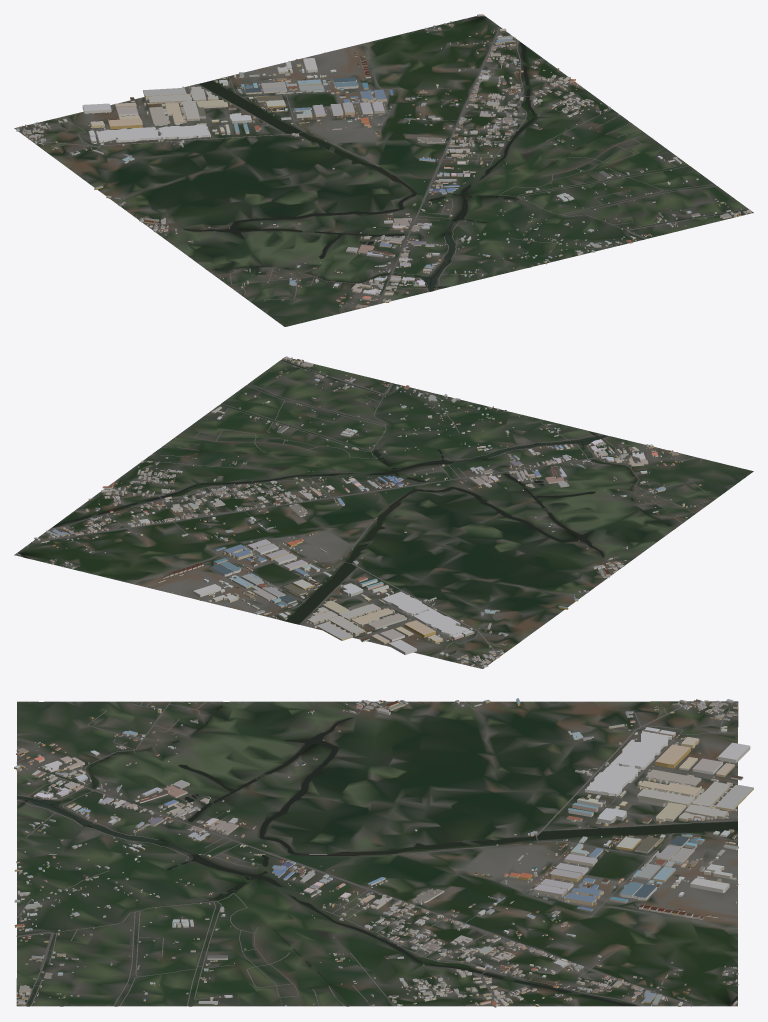
The picture shows the model from 3 angles, top to bottom: view 1: azimuth 30°, elevation 25°; view 2: azimuth 150°, elevation 25°; view 3: azimuth 270°, elevation 25°; orthographic projection. The views are drawn at different scales.
Parts seen in each view (by area): view 1: ground, buildings, roads, water; view 2: ground, buildings, roads, water; view 3: ground, buildings, water, roads.
Part boxes in pixels (bbox=[...]): ground: bbox=[14, 15, 753, 326]; buildings: bbox=[16, 14, 751, 308]; roads: bbox=[20, 27, 748, 304]; water: bbox=[74, 16, 611, 320]; ground: bbox=[14, 359, 753, 668]; buildings: bbox=[16, 356, 701, 667]; roads: bbox=[31, 359, 710, 668]; water: bbox=[17, 370, 744, 653]; ground: bbox=[16, 701, 738, 1006]; buildings: bbox=[14, 698, 753, 1007]; water: bbox=[17, 702, 737, 1006]; roads: bbox=[16, 701, 738, 1006].
Bounding box in the file's own units: 2825 × 20.52 × 2874.
